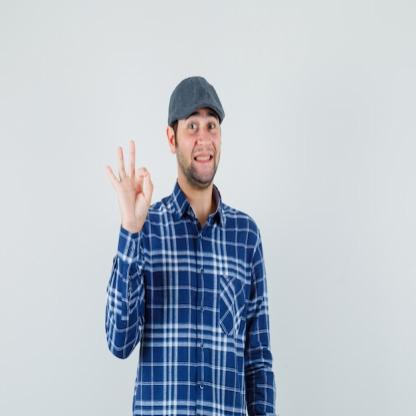ok: (104, 138, 156, 238)
